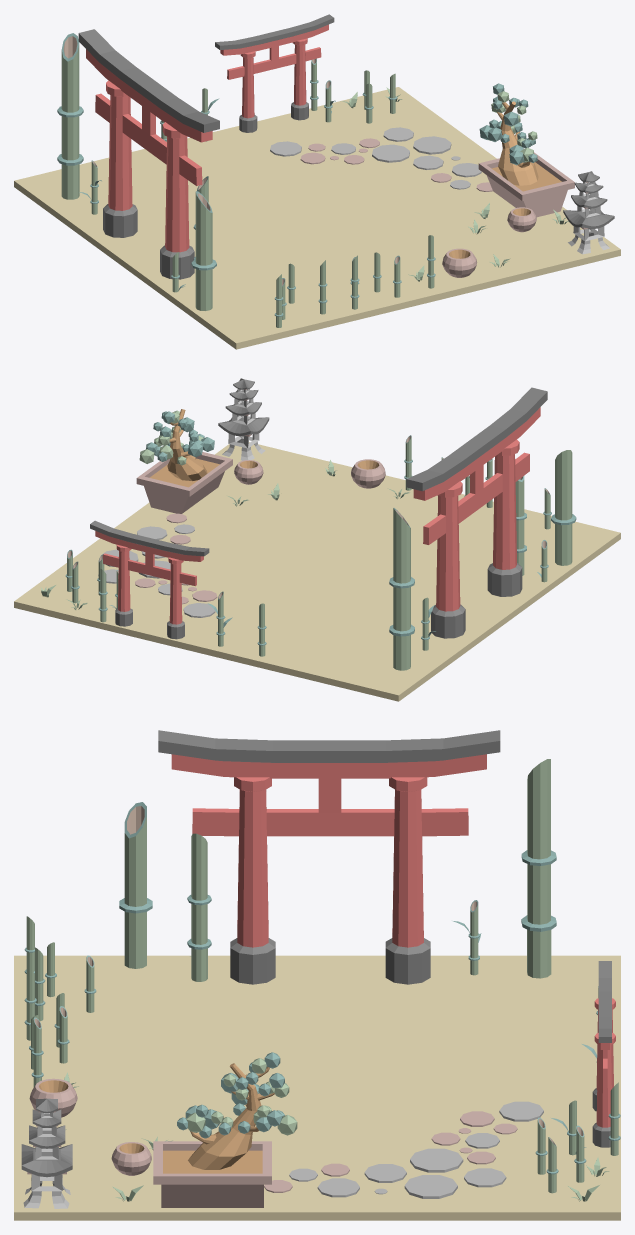
The model's file is meta.glb.
3 renders of one model, top to bottom at view 1: azimuth 30°, elevation 25°; view 2: azimuth 150°, elevation 25°; view 3: azimuth 270°, elevation 25°, orthographic. The views are drawn at different scales.
Parts seen in each view (by area): view 1: Cube.024; view 2: Cube.024; view 3: Cube.024.
Boxes of the visible parts, left/top/right/bottom form: Cube.024: left=14, top=14, right=620, bottom=349; Cube.024: left=14, top=378, right=620, bottom=701; Cube.024: left=14, top=730, right=620, bottom=1220.
Size of the model in its own units: 3.6 by 1.6 by 3.55.
Materials: 1 (1 with a texture image).
